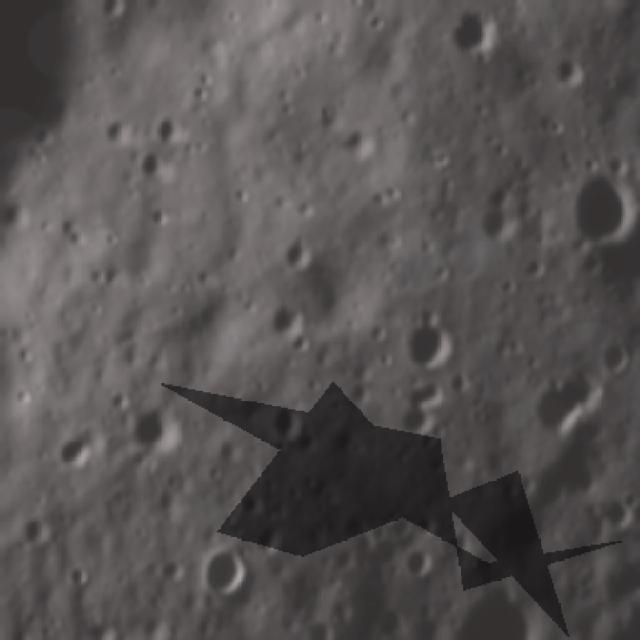crater: (566, 162, 637, 249), (448, 577, 542, 638), (528, 366, 604, 440), (387, 376, 448, 446), (392, 310, 460, 372), (495, 500, 559, 558), (440, 2, 498, 64), (131, 392, 183, 458), (196, 539, 247, 604), (56, 420, 95, 474), (335, 116, 380, 162), (593, 331, 636, 378), (474, 205, 520, 248), (254, 510, 292, 561), (266, 398, 303, 447), (262, 302, 304, 341), (277, 228, 315, 270), (550, 50, 588, 90), (134, 135, 166, 182), (152, 110, 192, 147), (385, 503, 418, 540), (404, 541, 436, 576), (344, 377, 370, 408), (361, 319, 388, 346), (362, 7, 384, 38)
